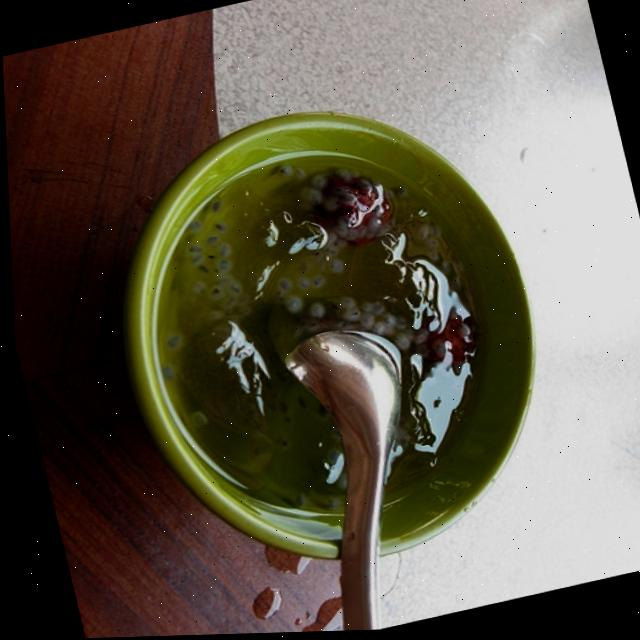蛋糕甜品: (47, 62, 593, 626)
